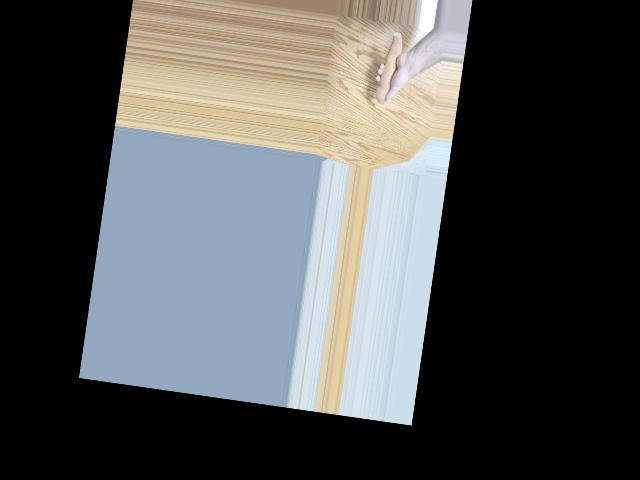sweet_potato: (372, 30, 406, 104)
